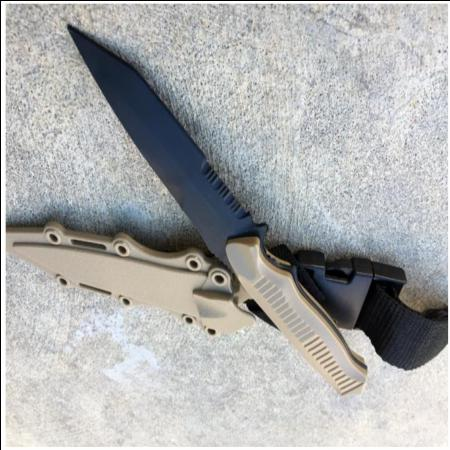long weapon: (61, 20, 269, 286)
